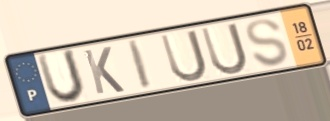I: (125, 37, 155, 92)
K: (81, 45, 127, 97)
S: (244, 17, 291, 69)
U: (34, 47, 88, 106), (157, 27, 210, 85), (198, 20, 250, 77)
